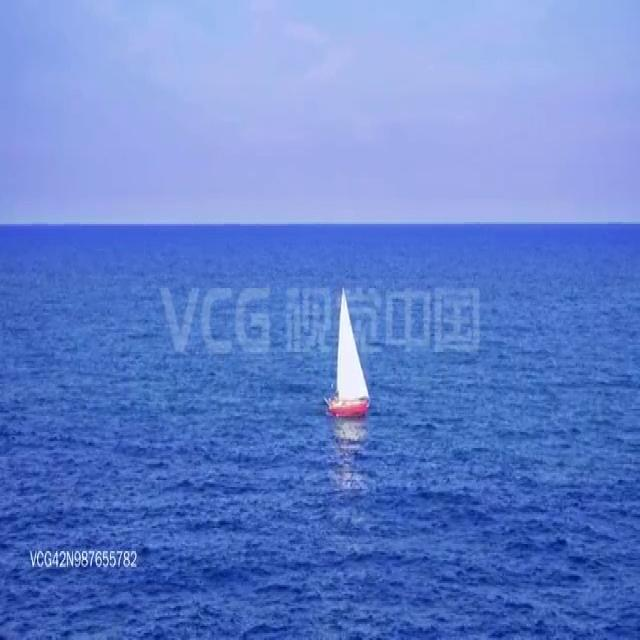sailboat: (323, 284, 370, 419)
